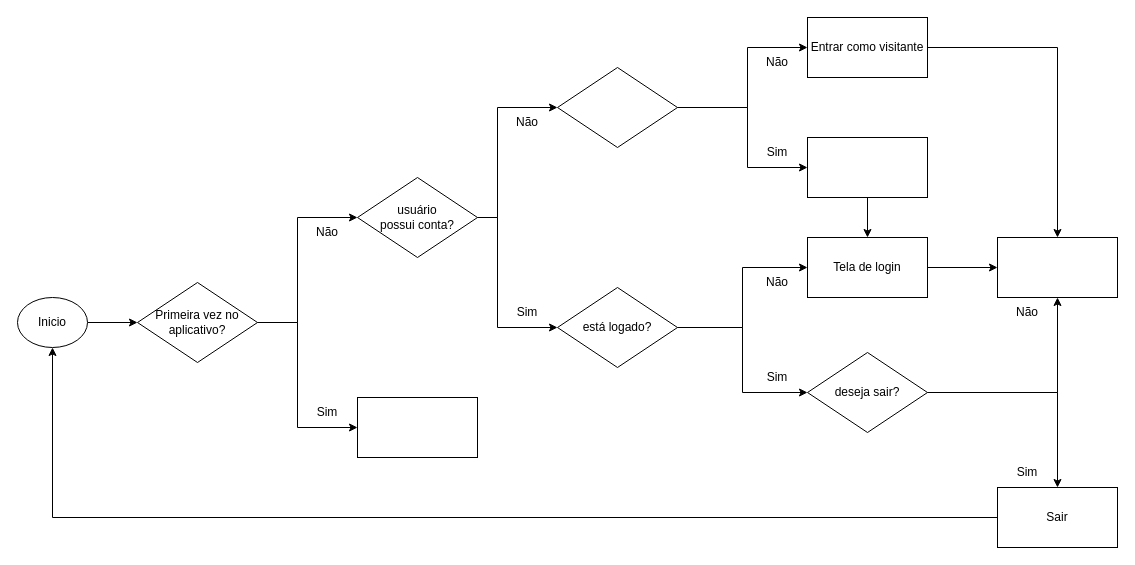
Image size: 1135x565. Some labels were removed from this diagram. Each missing label, with the centre of its shape:
"Deseja criar conta?" goes at point (617, 107).
"Onboarding" goes at point (417, 427).
"Tela de registro" goes at point (867, 167).
"Tela home" goes at point (1057, 267).
